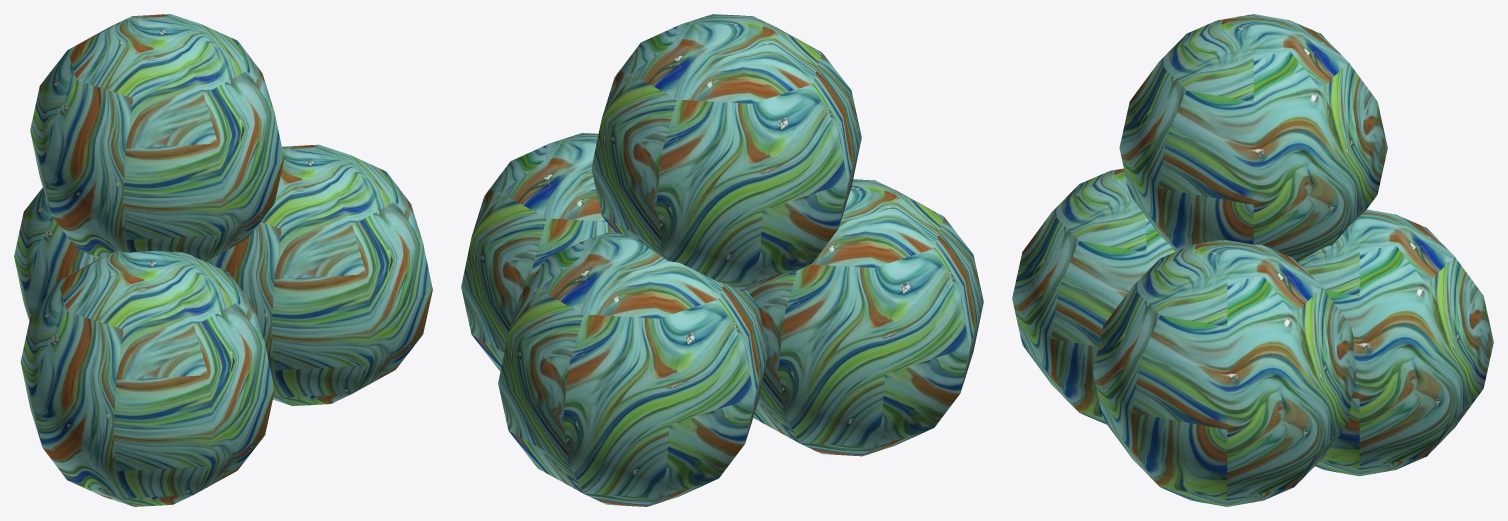
File: jolens.glb
3 renders of one model, left to right at view 1: azimuth 30°, elevation 25°; view 2: azimuth 150°, elevation 25°; view 3: azimuth 270°, elevation 25°, orthographic. The views are drawn at different scales.
Parts seen in each view (by area): view 1: Sphere.003, Sphere, Sphere.001, Sphere.002; view 2: Sphere, Sphere.002, Sphere.003, Sphere.001; view 3: Sphere.001, Sphere, Sphere.002, Sphere.003.
Part boxes in pixels (bbox=[...]): Sphere.003: bbox=[20, 251, 274, 506]; Sphere: bbox=[30, 14, 284, 261]; Sphere.001: bbox=[206, 144, 432, 405]; Sphere.002: bbox=[14, 187, 98, 320]; Sphere: bbox=[591, 14, 861, 290]; Sphere.002: bbox=[498, 231, 767, 506]; Sphere.003: bbox=[746, 179, 983, 456]; Sphere.001: bbox=[461, 132, 613, 371]; Sphere.001: bbox=[1093, 240, 1356, 506]; Sphere: bbox=[1119, 14, 1387, 261]; Sphere.002: bbox=[1298, 209, 1493, 476]; Sphere.003: bbox=[1012, 168, 1175, 424].
Bounding box in the file's own units: 0.7977 × 0.7457 × 0.7666.
Materials: 1 (1 with a texture image).
